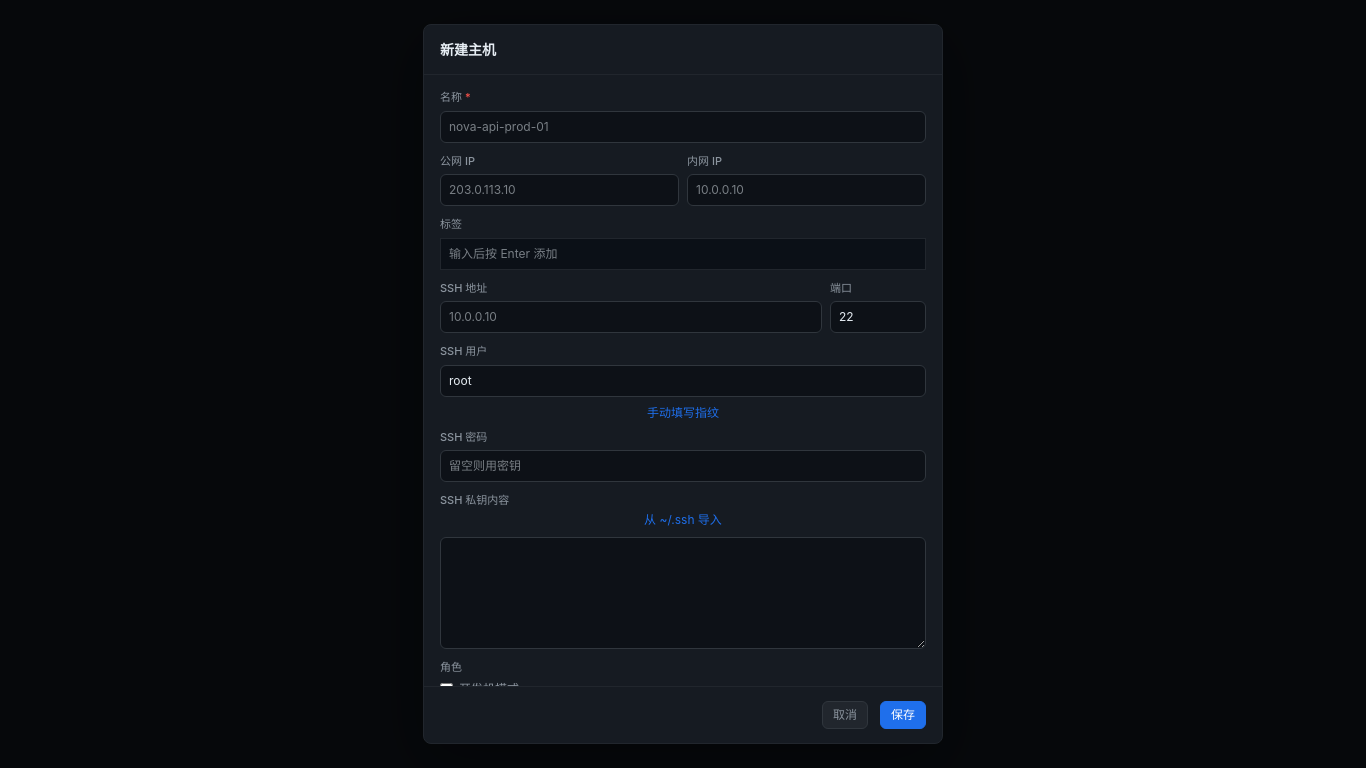
Test: HostFormModal › 扫描到多个私钥时展开候选列表供选择
The image size is (1366, 768).
Click the button with test id "host-form-import-key" at (683, 520), box [440,514,926,526]
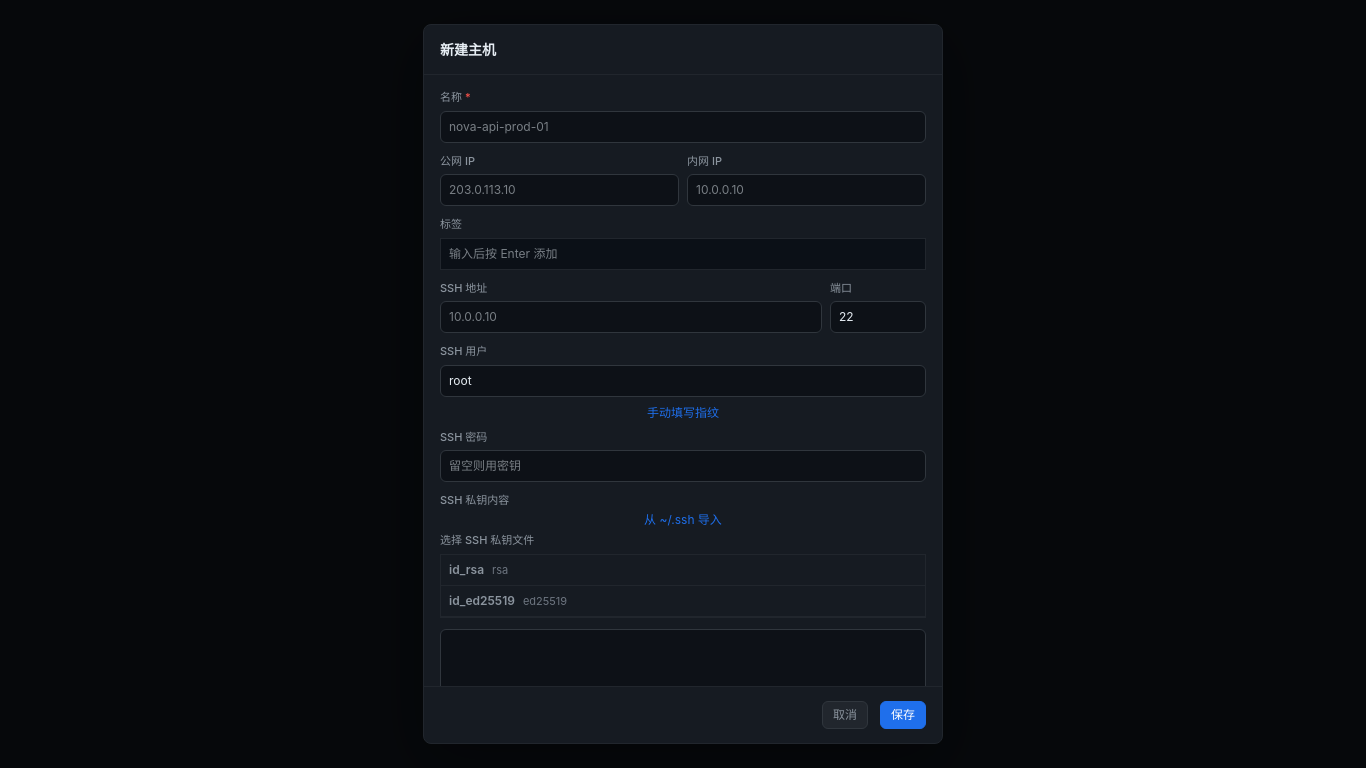
Now the number of list items with test id "host-form-key-row" is 2
Click the list item with test id "host-form-key-row" showing "id_ed25519 ed25519" at (683, 602), box [441,586,925,617]
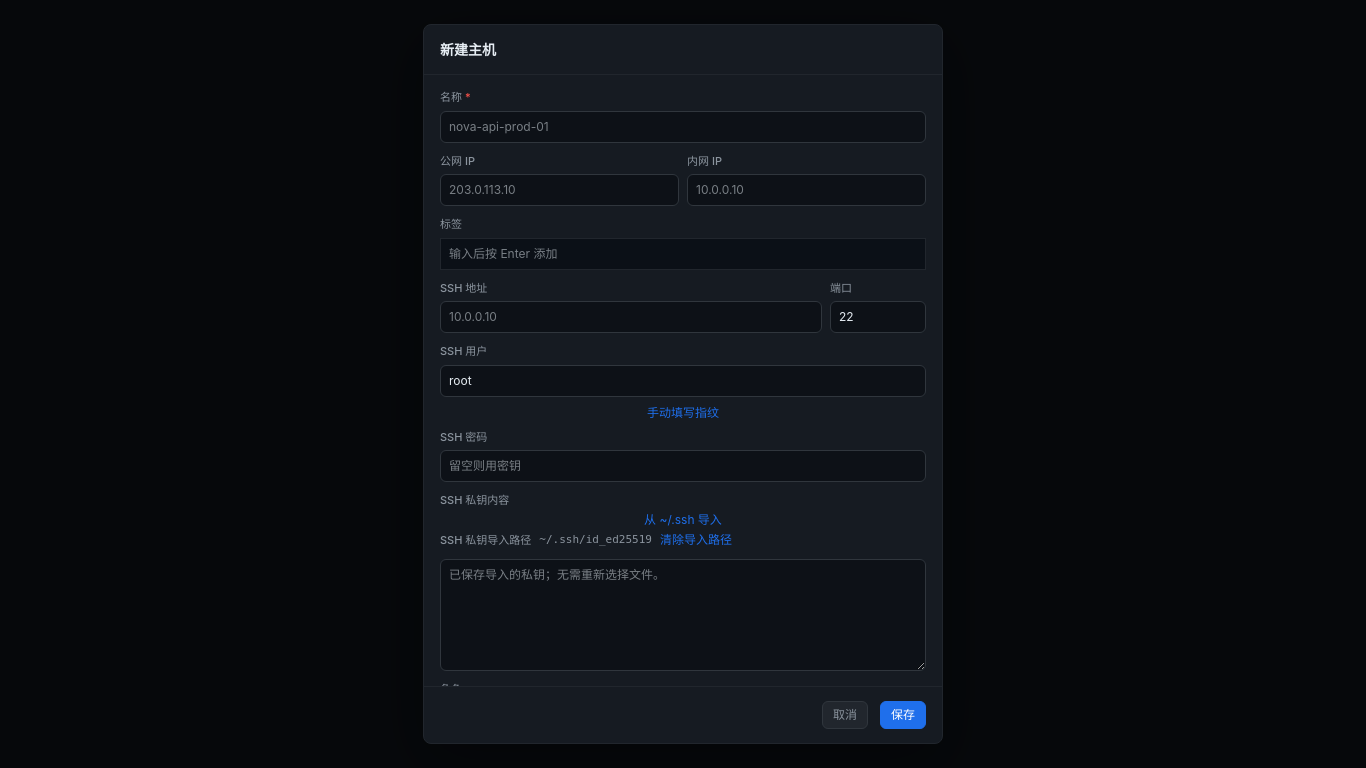
Now the text with test id "host-form-key-path" reads "~/.ssh/id_ed25519", box [539,532,652,546]
